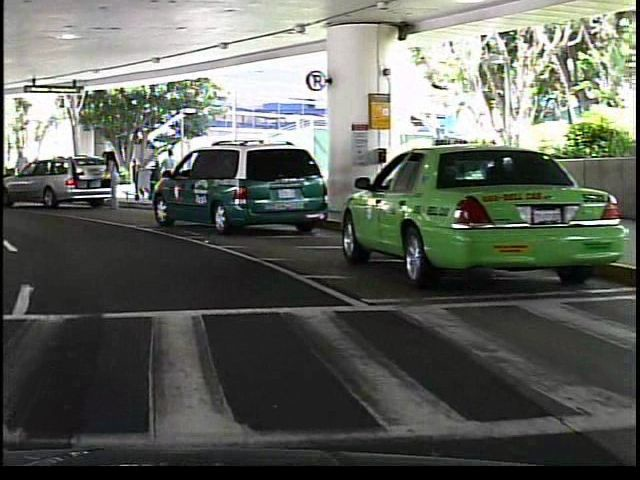person: (100, 147, 119, 211)
